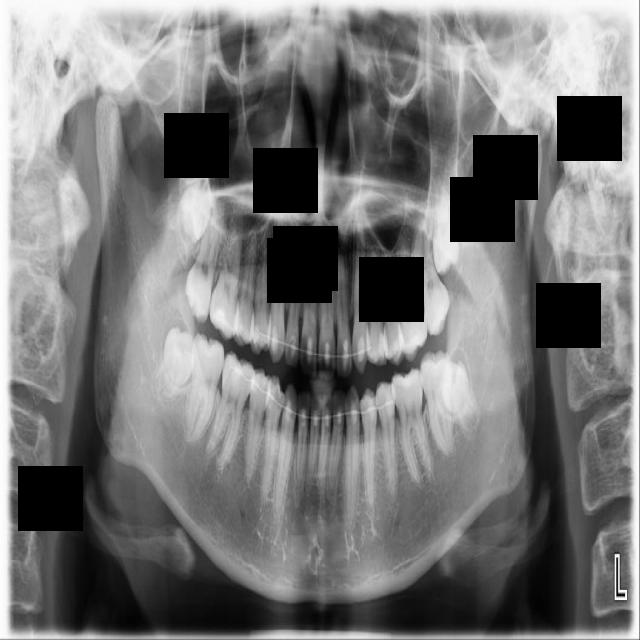3M ESPE Implant: (178, 182, 219, 244)
73: (550, 600, 555, 610)
BioHorizons Implant: (405, 214, 456, 338)
BioLife Implant: (431, 182, 461, 276)
Biomet 3i Implant: (433, 358, 486, 440)
Blue Sky Bio Implant: (419, 348, 456, 457)
Caries: (179, 202, 227, 324)
Implant: (184, 332, 227, 447)
Keystone Dental Implant: (148, 323, 205, 403)
